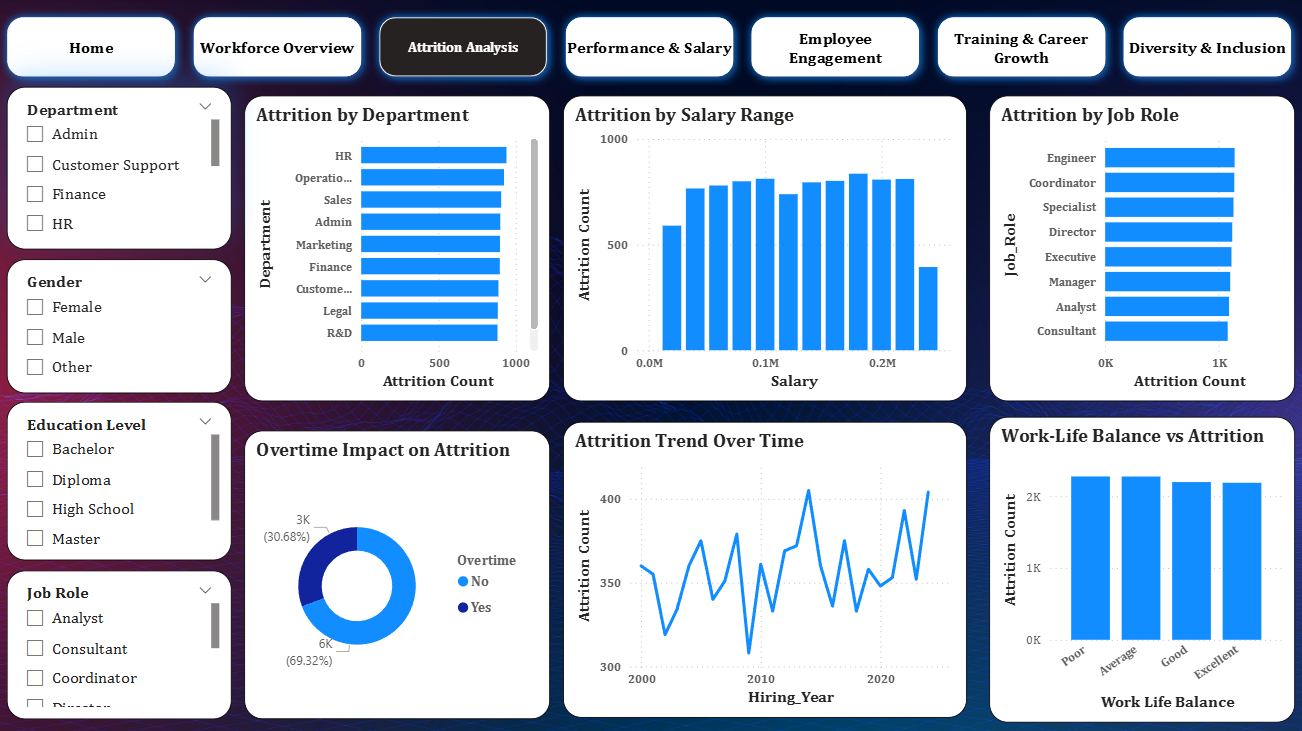

The dashboard page shown, as its layout file describes it:
{"tool":"powerbi","page":{"name":"Attrition Analysis","canvas":[1280,720],"ordinal":2},"visuals":[{"type":"image","box":[0,0,1280.3,720.2],"z":0},{"type":"pageNavigator","box":[0,10,1280.1,76.7],"z":1000},{"type":"clusteredBarChart","title":"Attrition by Department","fields":{"Category":["HR_Data.Department"],"Y":["HR_Data.Attrition Count"]},"box":[240.9,95.4,299.6,299.6],"z":2000},{"type":"clusteredColumnChart","title":"Attrition by Salary Range","fields":{"Y":["HR_Data.Attrition Count"],"Category":["HR_Data.Salary (bins)"]},"box":[552.7,95.4,395,299.6],"z":3000},{"type":"donutChart","title":"Overtime Impact on Attrition","fields":{"Category":["HR_Data.Overtime"],"Y":["HR_Data.Attrition Count"]},"box":[240.9,423.1,299.6,282.5],"z":4000},{"type":"columnChart","title":"Work-Life Balance vs Attrition","fields":{"Y":["HR_Data.Attrition Count"],"Category":["HR_Data.Work_Life_Balance"]},"box":[969.7,409.6,299.6,299.6],"z":5000},{"type":"clusteredBarChart","title":"Attrition by Job Role","fields":{"Category":["HR_Data.Job_Role"],"Y":["HR_Data.Attrition Count"]},"box":[969.7,95.4,299.6,299.6],"z":6000},{"type":"lineChart","title":"Attrition Trend Over Time","fields":{"Category":["HR_Data.Hiring_Year"],"Y":["HR_Data.Attrition Count"]},"box":[552.7,414.5,395,289.8],"z":7000},{"type":"slicer","fields":{"Values":["HR_Data.Department"]},"box":[8.6,86.8,220.1,159],"z":8000},{"type":"slicer","fields":{"Values":["HR_Data.Gender"]},"box":[8.6,255.6,220.1,130.8],"z":9000},{"type":"slicer","fields":{"Values":["HR_Data.Education_Level"]},"box":[8.6,395,220.1,155.3],"z":10000},{"type":"slicer","fields":{"Values":["HR_Data.Job_Role"]},"box":[8.6,560.1,220.1,145.5],"z":11000}]}

Visuals, with their boxes in screenshot pixels (x1, y1, x2, y2), scaled from the page's 1280x720 canvas onto the 1302x731 screenshot:
image: left=0, top=0, right=1301, bottom=730
pageNavigator: left=0, top=10, right=1301, bottom=88
"Attrition by Department" clusteredBarChart: left=245, top=97, right=550, bottom=401
"Attrition by Salary Range" clusteredColumnChart: left=562, top=97, right=964, bottom=401
"Overtime Impact on Attrition" donutChart: left=245, top=430, right=550, bottom=716
"Work-Life Balance vs Attrition" columnChart: left=986, top=416, right=1291, bottom=720
"Attrition by Job Role" clusteredBarChart: left=986, top=97, right=1291, bottom=401
"Attrition Trend Over Time" lineChart: left=562, top=421, right=964, bottom=715
slicer - HR_Data.Department: left=9, top=88, right=233, bottom=250
slicer - HR_Data.Gender: left=9, top=260, right=233, bottom=392
slicer - HR_Data.Education_Level: left=9, top=401, right=233, bottom=559
slicer - HR_Data.Job_Role: left=9, top=569, right=233, bottom=716
